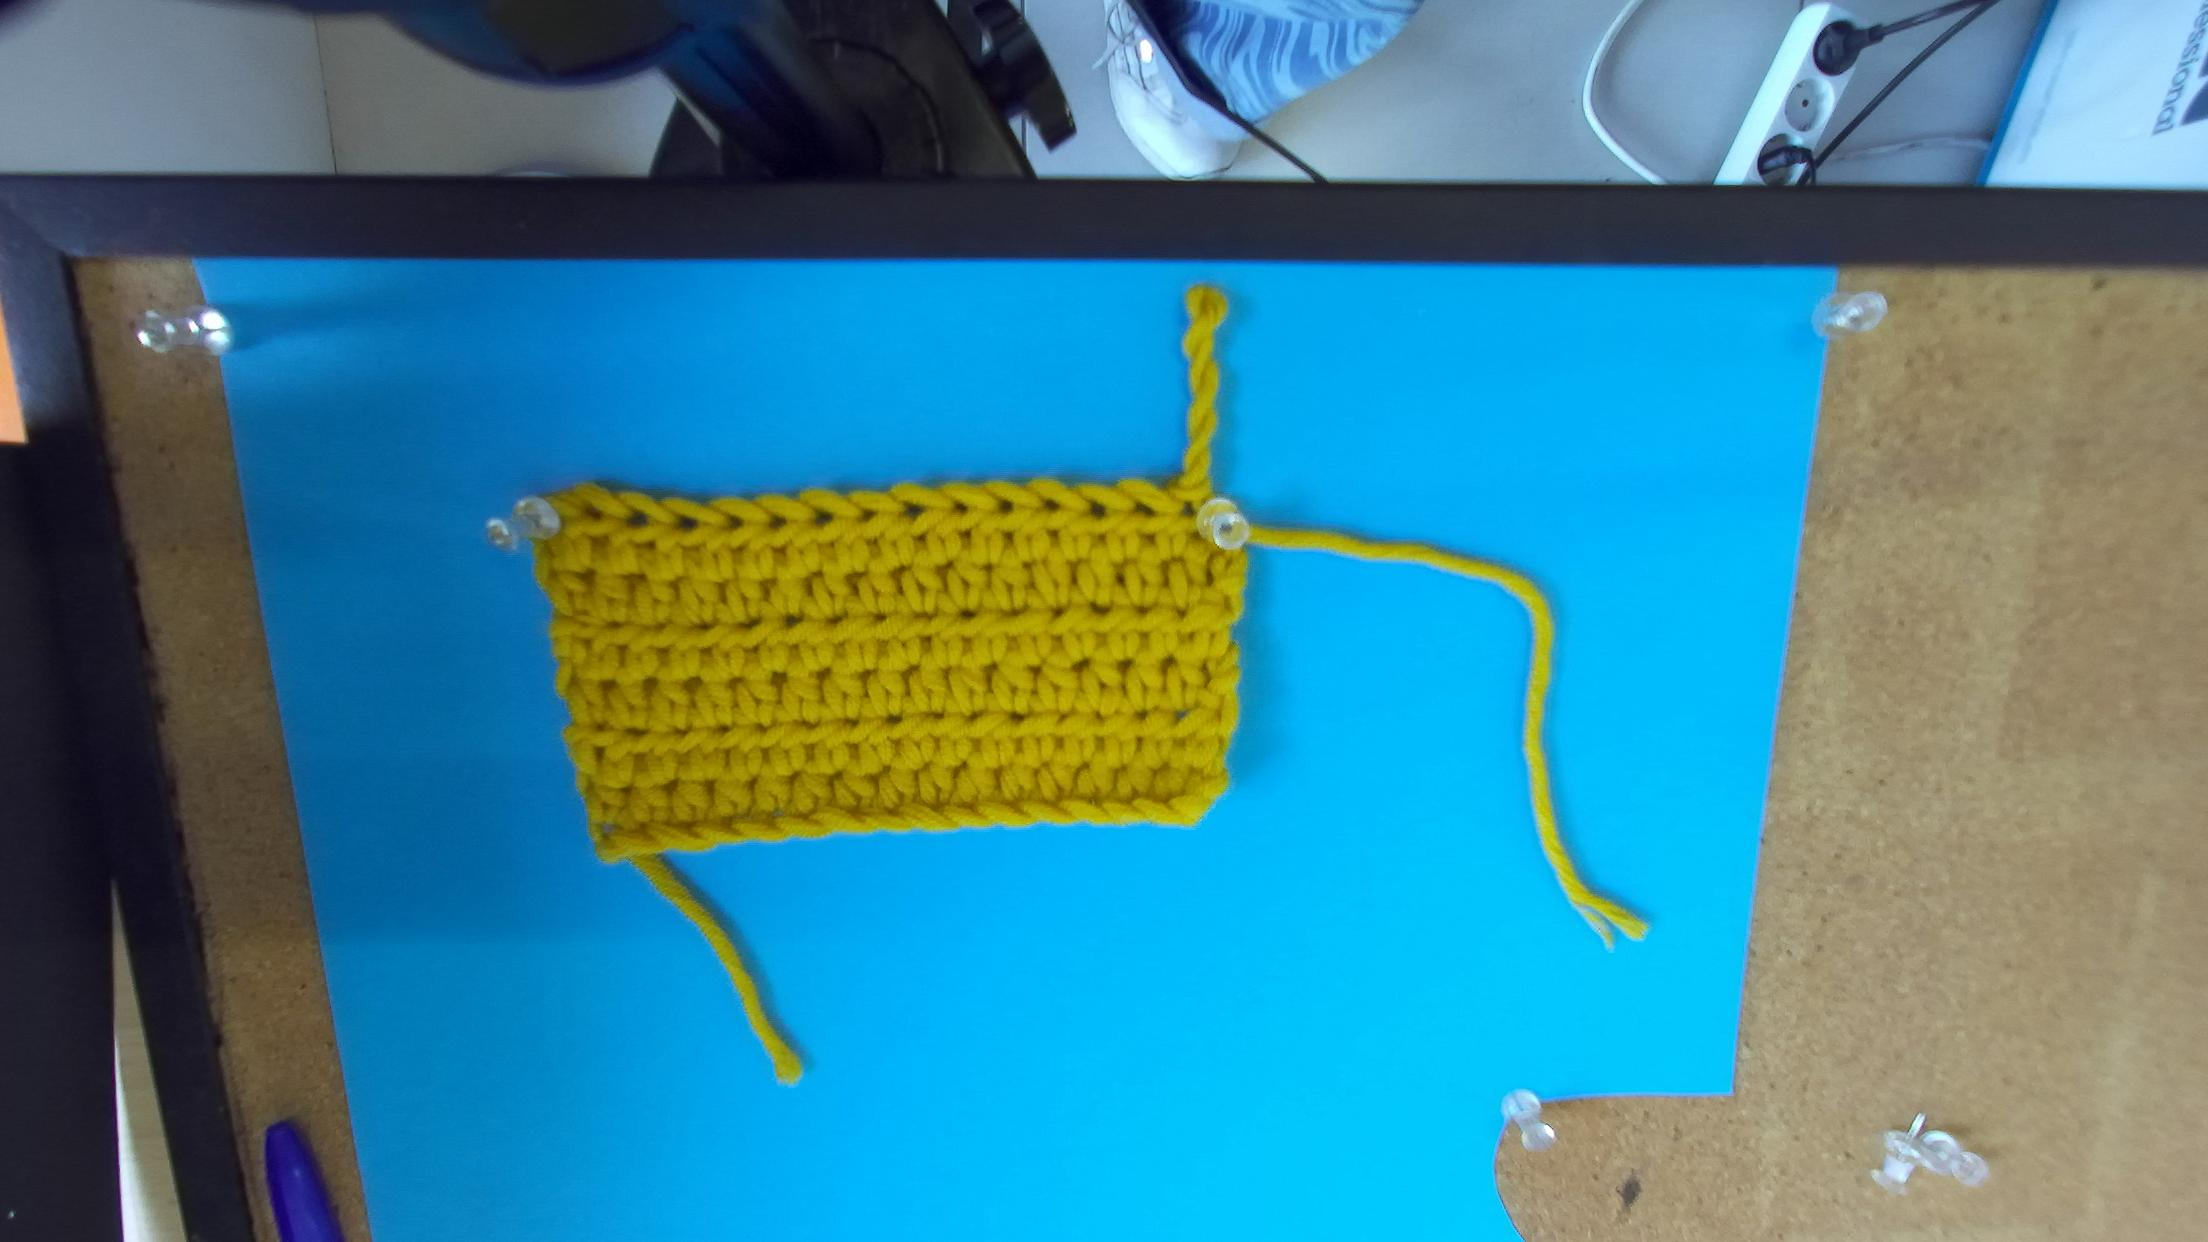hole: (623, 508, 651, 528), (899, 499, 927, 519), (766, 511, 789, 532), (723, 511, 745, 532), (813, 508, 834, 529), (1084, 499, 1106, 520), (673, 513, 699, 529), (1133, 497, 1154, 516), (582, 500, 601, 520), (996, 496, 1015, 516), (948, 499, 969, 514), (1040, 497, 1060, 513), (861, 507, 877, 525), (1178, 500, 1193, 517)
swatch: (481, 475, 1256, 869)
